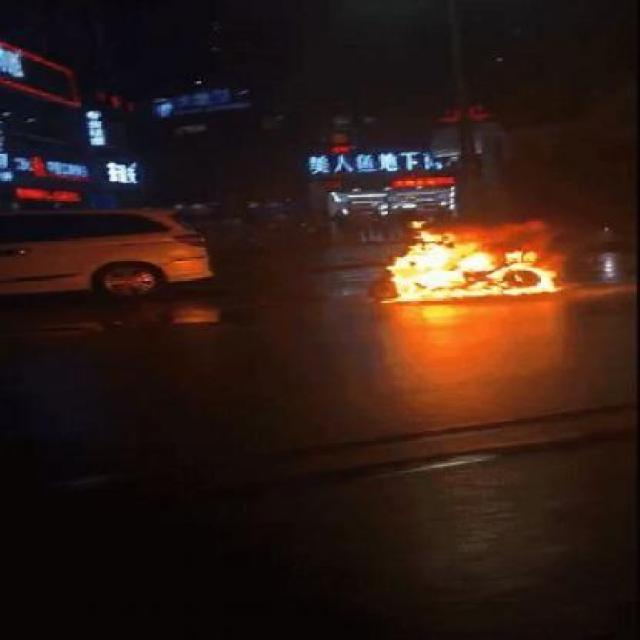Fire: (382, 233, 564, 296)
Smoke: (448, 203, 584, 263)
